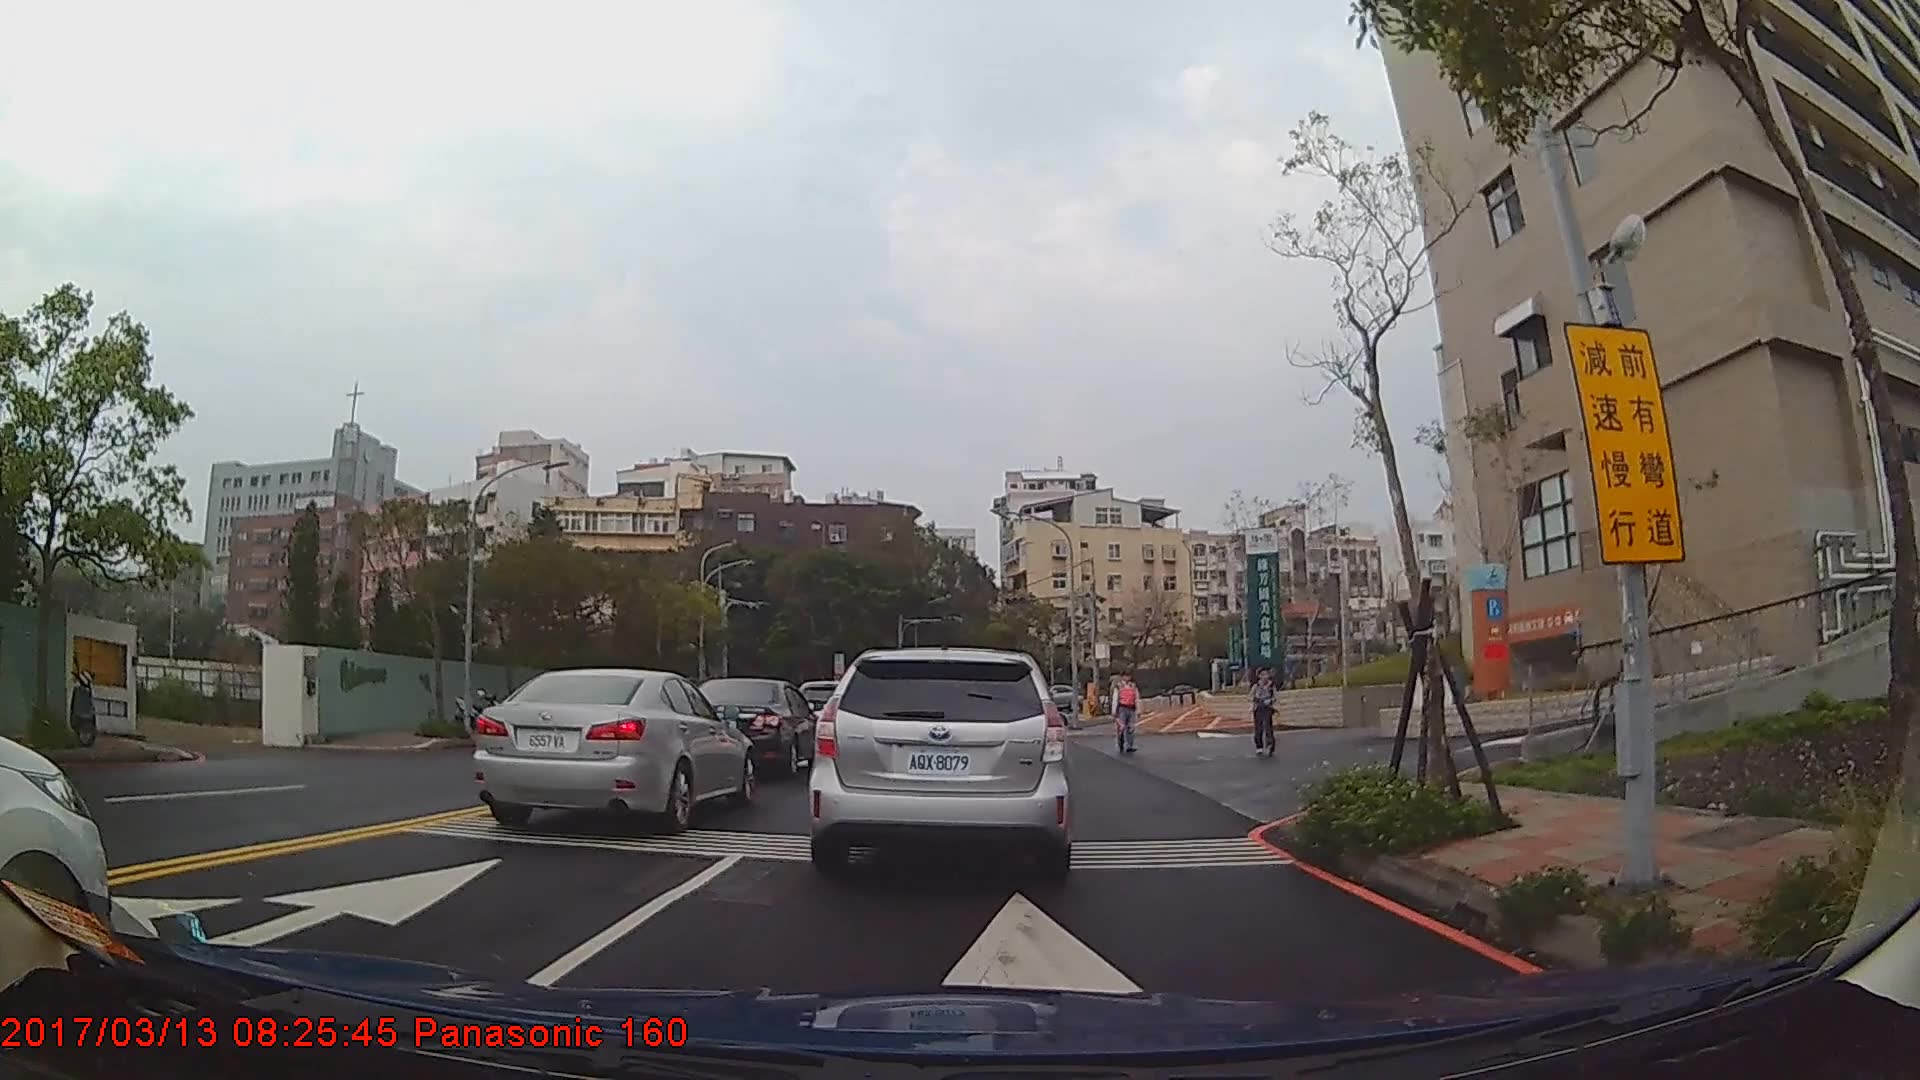pedestrian: (1111, 671, 1143, 757), (1251, 668, 1278, 759)
vehicle: (807, 646, 1073, 878), (472, 665, 754, 831), (683, 676, 820, 779)
